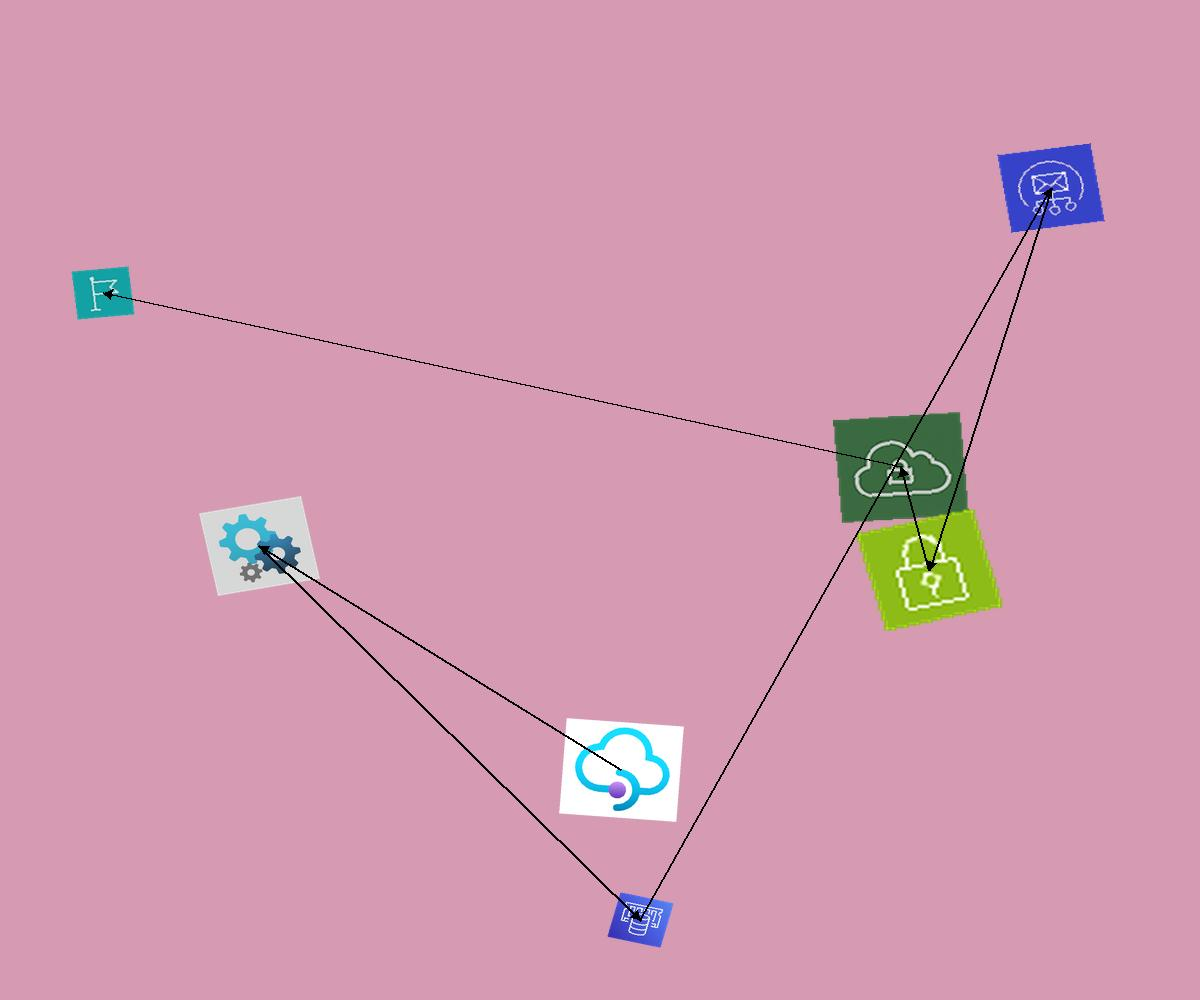AWS-ElastiCache: (607, 892, 674, 948)
AWS-Private_vpc: (833, 411, 969, 524)
AWS-Public-subnet: (854, 507, 1005, 633)
AWS-Region: (71, 266, 135, 320)
AWS-Simple-Email-Service: (997, 143, 1105, 233)
Azure_api: (199, 496, 320, 596)
Azure_api_gateway: (559, 718, 684, 822)
